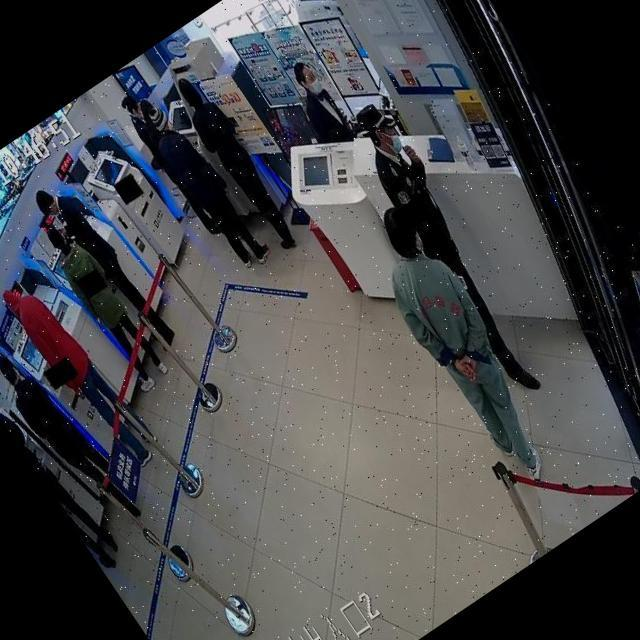person: (346, 196, 580, 495), (338, 96, 564, 398), (0, 264, 164, 480), (0, 337, 147, 542), (30, 170, 182, 367), (165, 68, 312, 260), (35, 214, 174, 396), (138, 97, 276, 277), (0, 379, 127, 572), (116, 91, 228, 241), (116, 89, 226, 239), (276, 55, 362, 156)
